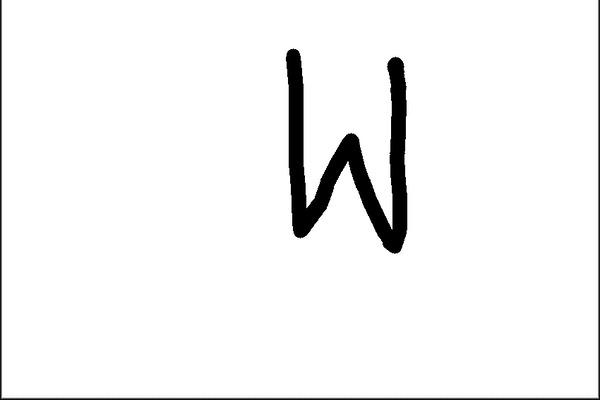w: (274, 36, 420, 274)
